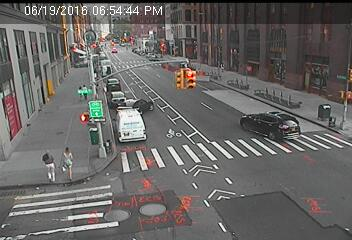neg: (131, 174, 157, 209), (171, 190, 194, 220), (307, 190, 329, 220), (82, 123, 104, 152), (103, 89, 119, 111), (301, 147, 317, 168), (90, 54, 105, 73), (107, 46, 121, 65), (92, 94, 105, 111), (91, 76, 101, 90), (102, 78, 107, 85)
pos: (32, 146, 62, 186), (52, 144, 82, 183), (78, 83, 93, 102)
